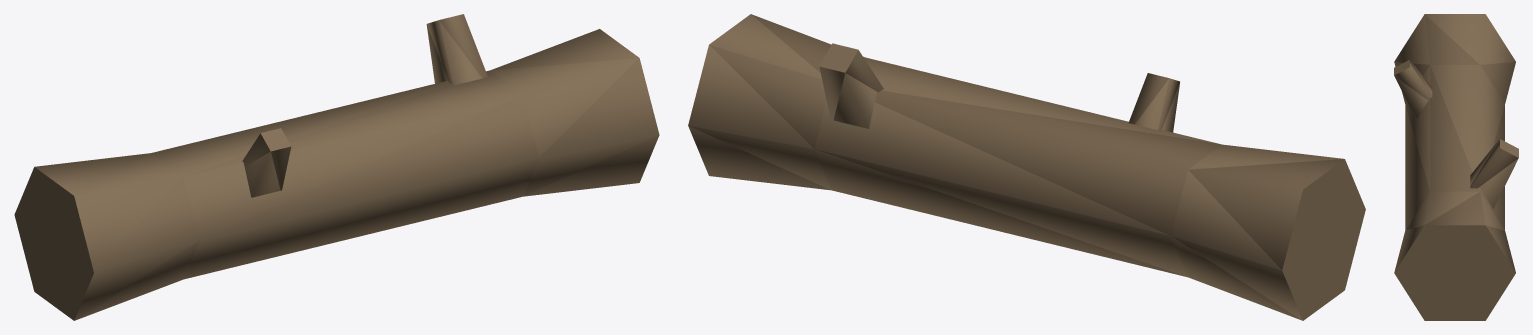
File: fallen log.glb
The picture shows the model from 3 angles, left to right: view 1: azimuth 30°, elevation 25°; view 2: azimuth 150°, elevation 25°; view 3: azimuth 270°, elevation 25°; orthographic projection. The views are drawn at different scales.
Visible parts, largest first — view 1: fallen log; view 2: fallen log; view 3: fallen log.
Boxes of the visible parts, x1,y1,x2,y2 form: fallen log: [14, 14, 659, 320]; fallen log: [688, 14, 1365, 320]; fallen log: [1394, 14, 1518, 320].
Size of the model in its own units: 1.2 by 0.3326 by 0.2994.
